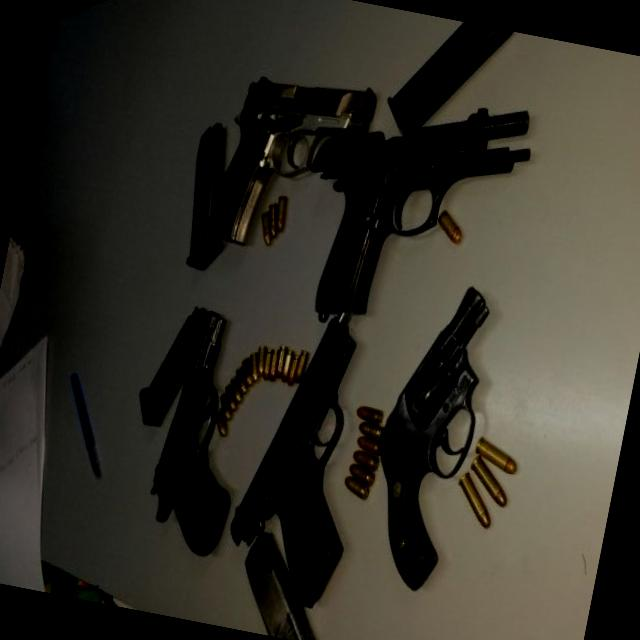handgun: (300, 70, 538, 354), (218, 292, 384, 607), (353, 272, 504, 592), (198, 57, 382, 265), (138, 306, 263, 562)
